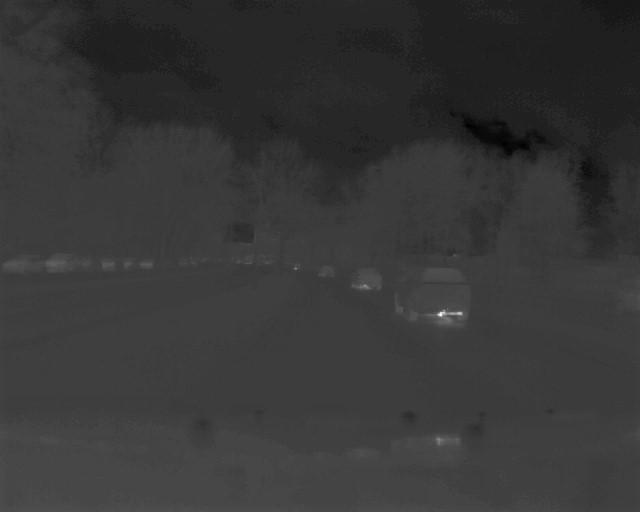car: (393, 268, 472, 324), (349, 266, 383, 290), (317, 263, 334, 279)
